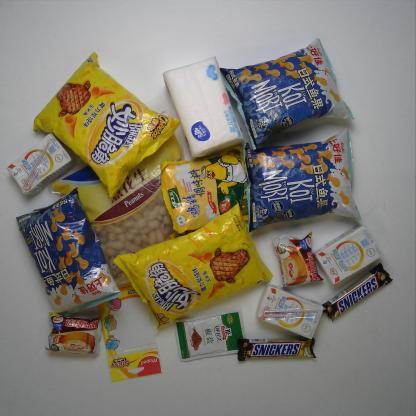Chocolate: (322, 262, 394, 322), (237, 335, 316, 361)
Dessert: (270, 230, 322, 290), (45, 311, 104, 355)
Dried Food: (49, 134, 190, 302)
Milk: (312, 222, 382, 286), (8, 132, 74, 198), (255, 286, 323, 342)
Puffed Food: (33, 50, 183, 199), (114, 201, 273, 330), (219, 36, 356, 150), (17, 186, 120, 319), (241, 128, 364, 235)
Seasoner: (160, 146, 260, 235), (175, 308, 249, 362)
Stationery: (98, 282, 164, 384)
Tissue: (160, 55, 245, 157)
